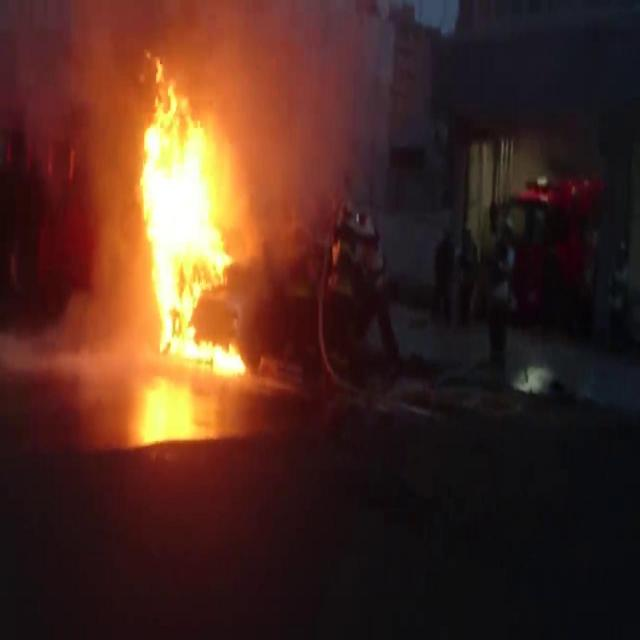fire: (135, 29, 253, 391)
